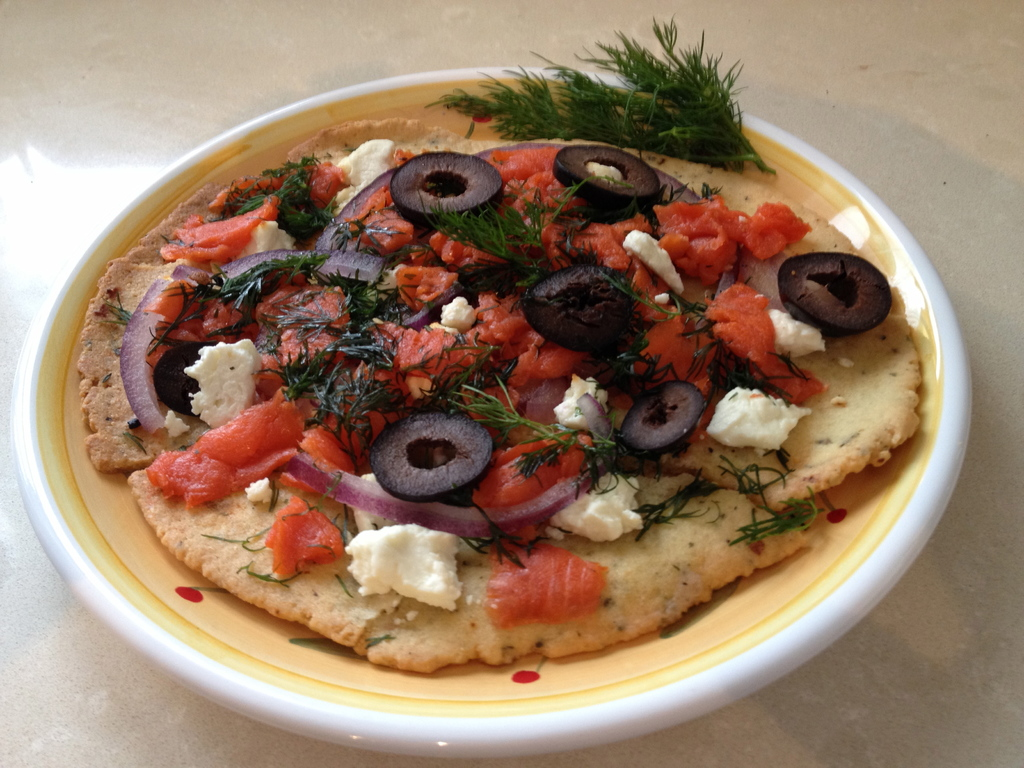Pizza: (53, 45, 908, 682)
